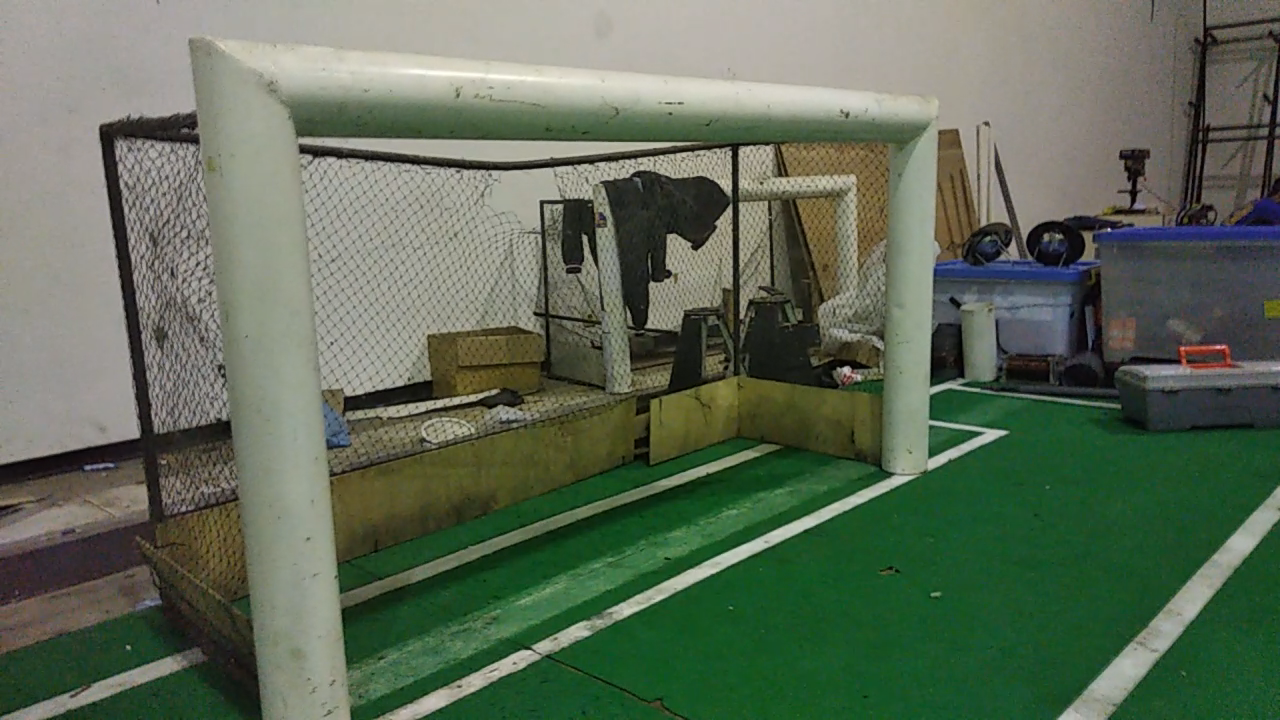gawang: (170, 19, 953, 716)
